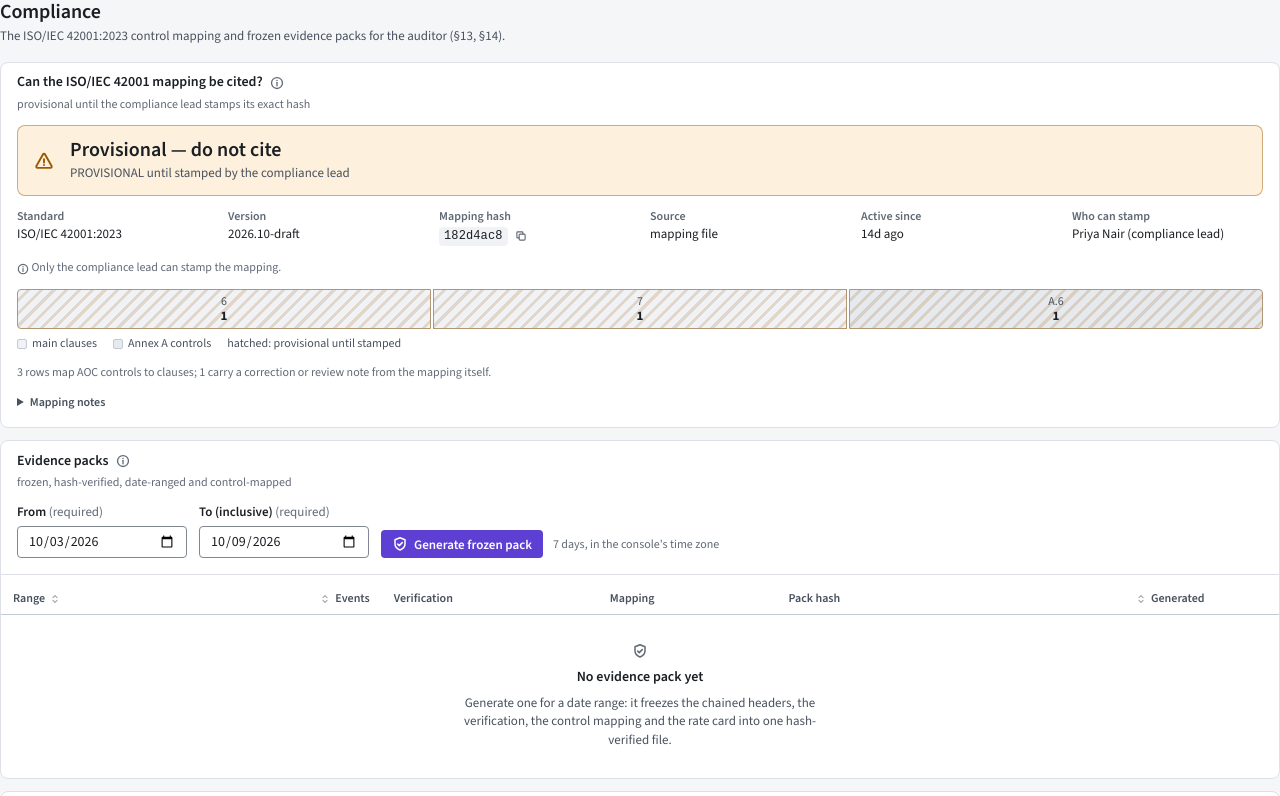
Scenario: Compliance › generates a frozen pack for a date range and lists it with its hash and download
This screenshot has width=1280, height=796.
Type "2026-10-10" into the date field labelled "From (required)" at (102, 542), box [17,526,187,558]
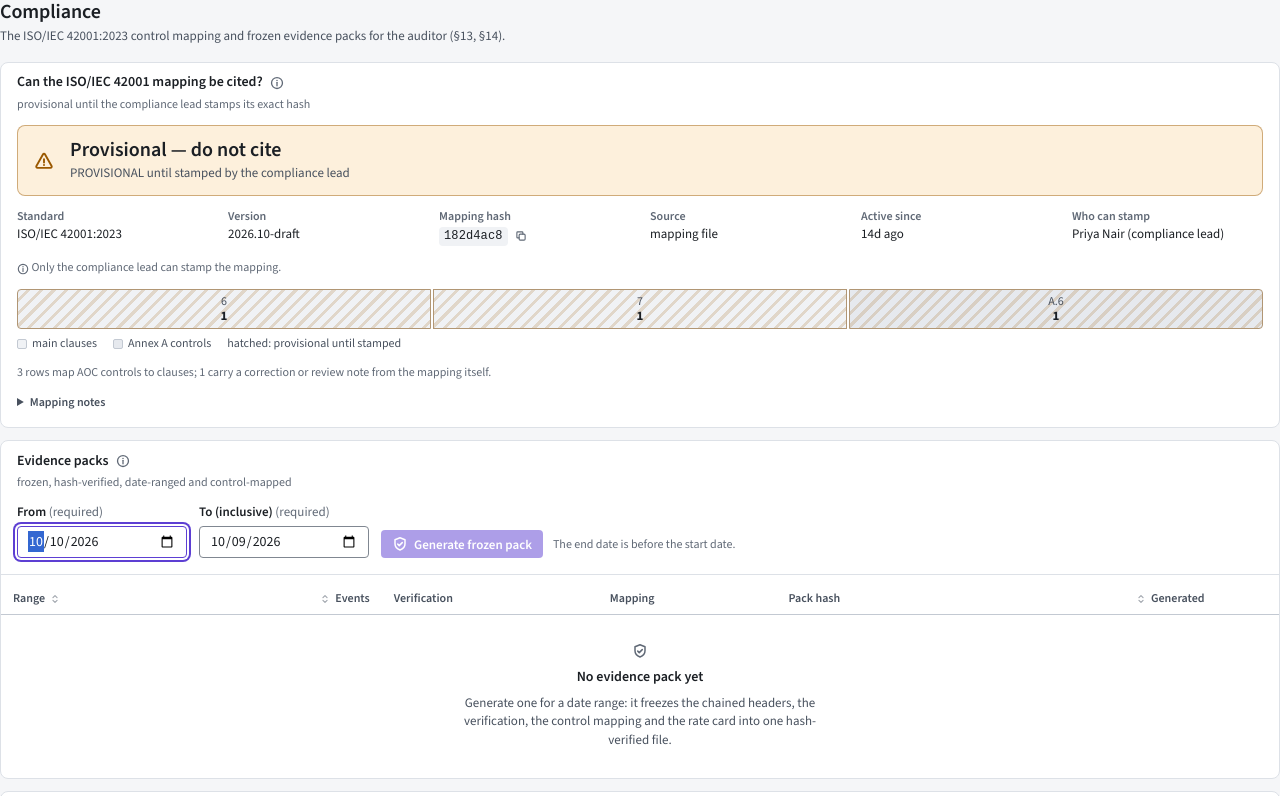
Type "2026-10-03" into the date field labelled "To (inclusive) (required)" at (284, 542), box [199,526,369,558]
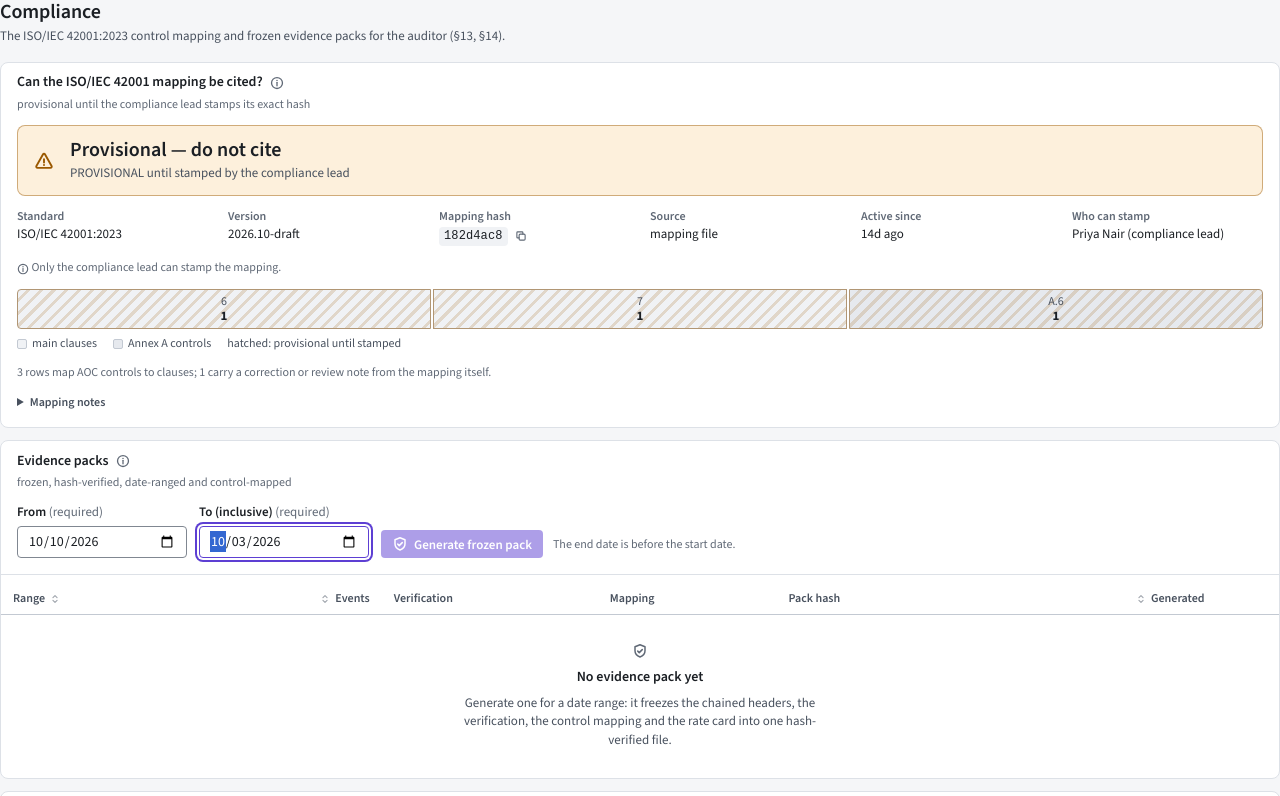
Check: the text "The end date is before the start date." is shown, box [553,536,735,553]
Check: the button "Generate frozen pack" is disabled, box [381,530,543,558]
Type "2026-10-03" into the date field labelled "From (required)" at (102, 542), box [17,526,187,558]
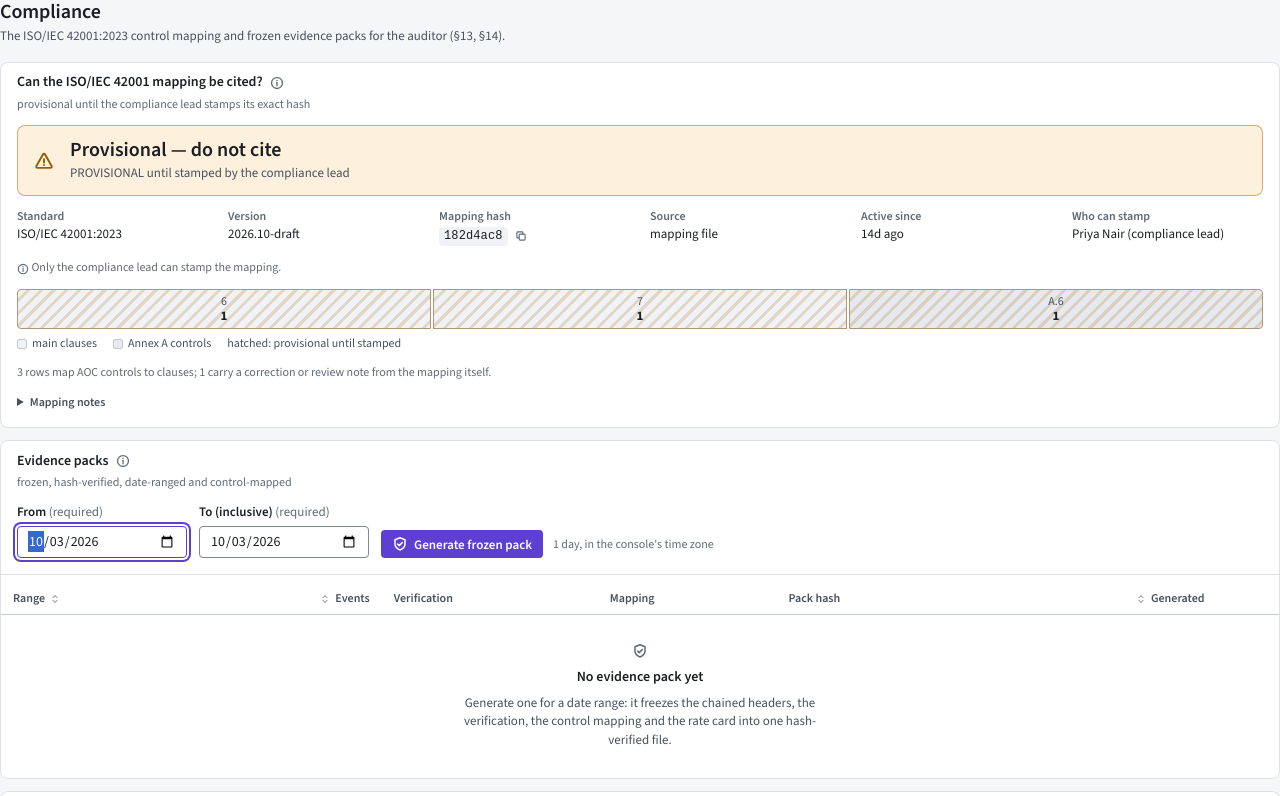
Type "2026-10-09" into the date field labelled "To (inclusive) (required)" at (284, 542), box [199,526,369,558]
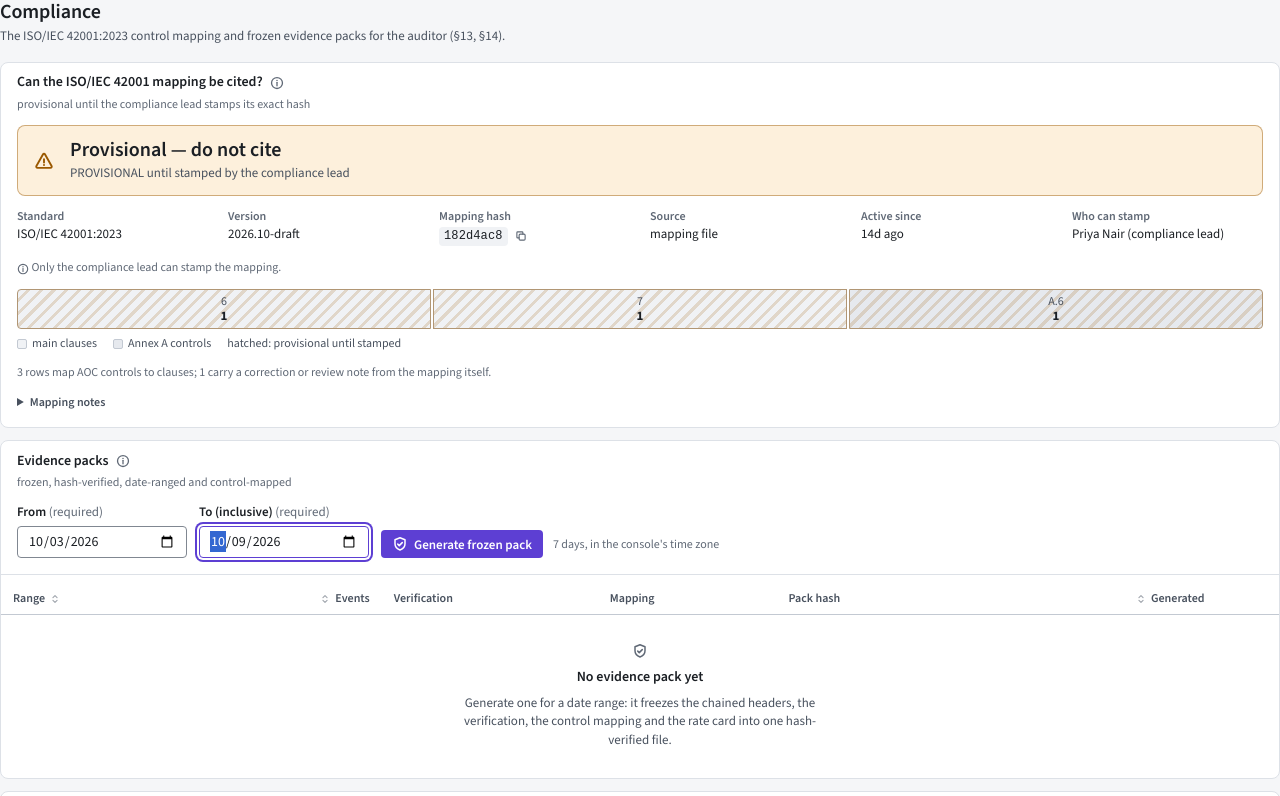
Check: the text "7 days, in the console's time zone" is shown, box [553,536,719,553]
Click the button "Generate frozen pack" at (462, 544), box [381,530,543,558]
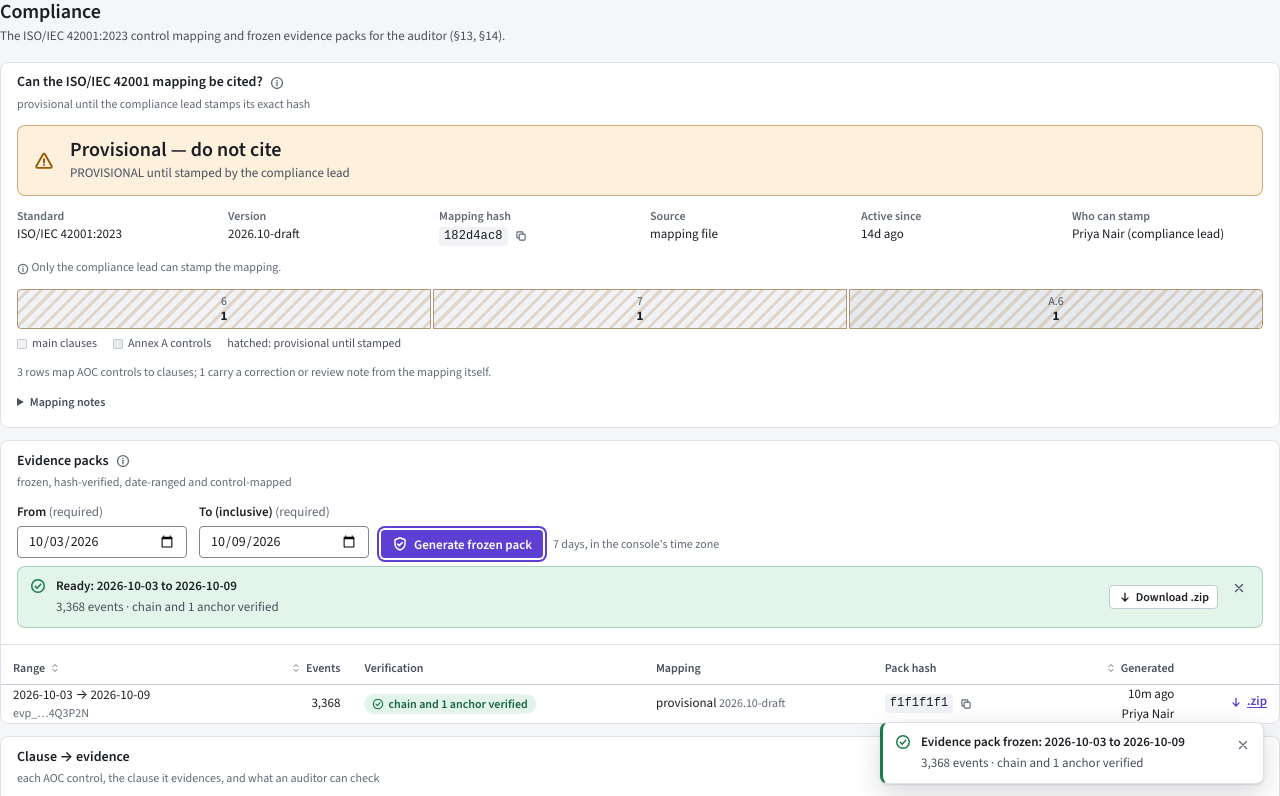
Check: the text "chain and 1 anchor verified" is shown, box [388,698,528,710]
Click the row named "Pack 2026-10-03 to 2026-10-09: open its manifest" at (43, 694), box [1,685,1279,723]
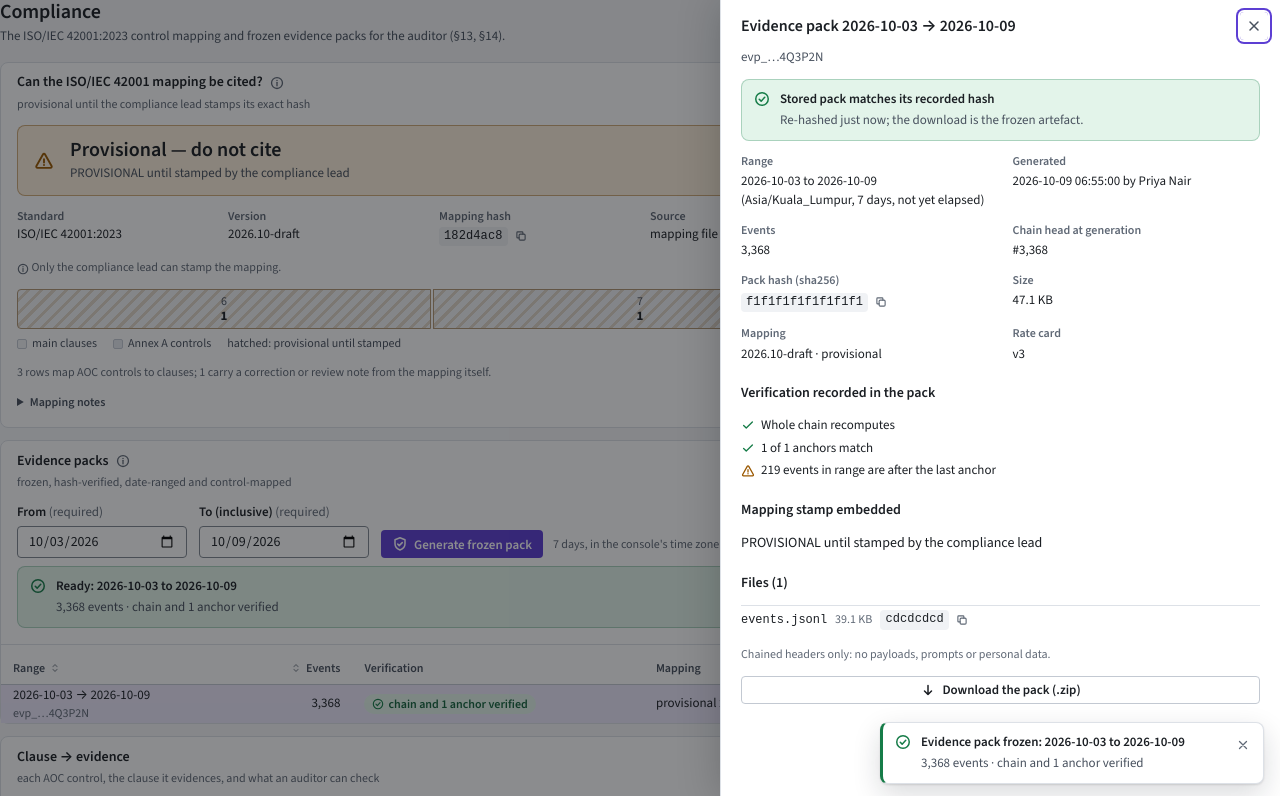
Check: the text "Stored pack matches its recorded hash" is shown, box [780,90,995,107]
Check: the list item "219 events in range are after the last anchor" is shown, box [741,462,996,478]
Check: the text "events.jsonl" is shown, box [741,612,827,629]
